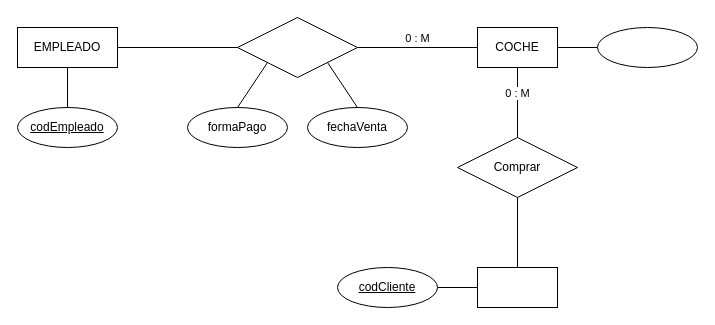
The diagram is 715 pixels wide and 325 high, and some of its shapes have lost their labels. Here are the shapes that lost their labels. From the top down, the centre of each, then its label:
At pixel 297 47: "Vender".
At pixel 647 47: "matricula".
At pixel 517 287: "CLIENTE".
